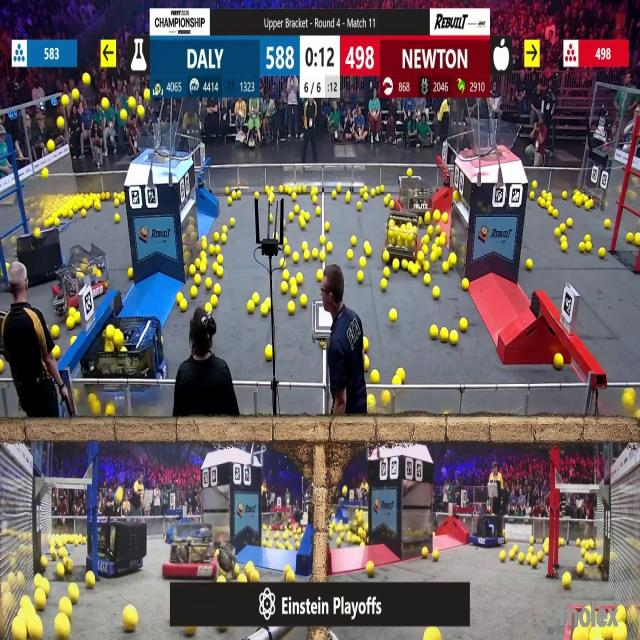ball_airborne: (115, 489, 123, 502), (46, 140, 54, 152), (129, 97, 137, 109), (100, 96, 107, 109), (138, 106, 145, 118), (72, 90, 79, 102), (82, 73, 89, 85), (144, 90, 150, 103), (59, 116, 66, 127), (42, 168, 48, 180), (62, 96, 69, 106), (344, 487, 350, 498), (120, 110, 126, 120), (34, 229, 40, 239)
ball_ground: (125, 608, 138, 633), (623, 386, 636, 410), (61, 598, 73, 616), (35, 592, 46, 610), (69, 586, 79, 604), (248, 568, 260, 582), (86, 572, 96, 588), (92, 403, 101, 418), (555, 354, 564, 368), (365, 562, 374, 576), (266, 346, 274, 361), (563, 573, 571, 588), (451, 332, 459, 346), (442, 328, 450, 342), (184, 626, 194, 637), (429, 325, 437, 338), (370, 371, 378, 384), (66, 561, 74, 574), (392, 376, 402, 386), (460, 318, 467, 332), (362, 338, 369, 352), (286, 570, 294, 582), (67, 318, 75, 330), (380, 279, 388, 291), (382, 392, 390, 404), (366, 394, 374, 406), (363, 357, 370, 370), (299, 294, 306, 307), (59, 564, 66, 577), (576, 562, 583, 575), (54, 347, 61, 360), (106, 407, 114, 418), (450, 253, 458, 264), (382, 251, 390, 262), (432, 286, 439, 298), (211, 294, 218, 306), (389, 310, 396, 322), (247, 302, 254, 314), (288, 303, 295, 315), (51, 325, 58, 337), (262, 303, 269, 315), (252, 292, 259, 304), (424, 212, 431, 224), (42, 582, 49, 594), (238, 573, 247, 582), (627, 234, 635, 244), (316, 272, 324, 282), (396, 366, 404, 376), (59, 548, 67, 558), (74, 312, 80, 325), (180, 301, 187, 312), (290, 285, 297, 296), (578, 242, 585, 253), (392, 261, 399, 272), (364, 246, 371, 257), (205, 278, 212, 289), (188, 266, 195, 277), (424, 274, 430, 286), (526, 260, 532, 272), (282, 282, 288, 294), (357, 272, 363, 284), (204, 304, 212, 313), (572, 631, 580, 640), (82, 201, 90, 210), (69, 304, 75, 316), (499, 552, 506, 562), (213, 284, 220, 294), (423, 264, 430, 274), (193, 275, 200, 285), (216, 268, 223, 278), (418, 251, 425, 261), (421, 549, 428, 559), (432, 211, 439, 221), (220, 235, 227, 245), (507, 551, 514, 561), (190, 286, 196, 297), (296, 274, 302, 285), (432, 551, 438, 562), (586, 242, 592, 253), (401, 261, 407, 272), (235, 565, 241, 576), (561, 243, 568, 252), (538, 199, 545, 208), (462, 280, 468, 290), (599, 248, 605, 258), (444, 264, 450, 274), (283, 271, 289, 281), (384, 269, 390, 279), (360, 256, 366, 266), (292, 252, 298, 262), (201, 265, 207, 275), (312, 249, 318, 259), (519, 554, 525, 564), (443, 213, 449, 223), (320, 251, 326, 261), (346, 192, 352, 202), (284, 246, 290, 256), (95, 202, 101, 212), (531, 558, 537, 568), (209, 245, 215, 255), (214, 233, 220, 243), (356, 202, 362, 212), (41, 558, 47, 568), (202, 240, 208, 250), (0, 359, 4, 373), (218, 575, 225, 583), (129, 269, 134, 280), (216, 255, 222, 264), (305, 251, 311, 260), (412, 269, 418, 278), (604, 219, 610, 228), (269, 214, 275, 223), (537, 553, 543, 562), (553, 209, 559, 218), (556, 229, 562, 238), (560, 223, 566, 232), (430, 252, 436, 261), (423, 236, 429, 245), (431, 245, 437, 254), (441, 237, 447, 246), (348, 250, 353, 260), (351, 237, 356, 247), (326, 243, 331, 253), (299, 219, 304, 229), (428, 224, 433, 234), (635, 236, 640, 246), (215, 245, 220, 255), (409, 263, 414, 273), (527, 554, 532, 564), (114, 214, 120, 222), (80, 209, 86, 217), (231, 218, 237, 226), (303, 242, 309, 250), (320, 237, 326, 245), (201, 251, 207, 259), (586, 202, 592, 210), (106, 191, 112, 199), (293, 206, 299, 214), (194, 258, 200, 266), (269, 198, 275, 206), (559, 538, 565, 546), (579, 550, 585, 558), (316, 207, 321, 216), (567, 218, 572, 227), (288, 212, 293, 221), (387, 201, 392, 210), (306, 212, 311, 221), (435, 224, 440, 233), (562, 191, 568, 198), (221, 225, 227, 232), (68, 211, 74, 218), (530, 190, 535, 198), (324, 222, 329, 230), (532, 181, 537, 189), (331, 190, 336, 198), (114, 200, 119, 208), (267, 296, 272, 304), (408, 170, 413, 178), (233, 190, 238, 198), (254, 191, 259, 199), (224, 186, 229, 194), (276, 234, 281, 242), (514, 543, 519, 551), (177, 292, 182, 300), (279, 185, 284, 193), (119, 192, 123, 202), (227, 198, 231, 207), (560, 236, 566, 242), (70, 338, 76, 344), (370, 187, 374, 196), (586, 235, 591, 242), (363, 193, 368, 200), (529, 545, 534, 552), (291, 192, 296, 199), (547, 208, 552, 215), (56, 218, 61, 225), (280, 258, 284, 266), (543, 544, 547, 552), (530, 536, 534, 544), (313, 197, 317, 205), (338, 538, 342, 546), (266, 185, 270, 193), (284, 238, 288, 245), (113, 191, 117, 198), (276, 532, 280, 539)
goal: (466, 123, 521, 159), (128, 130, 188, 160)
robot_blue: (92, 322, 168, 408), (53, 246, 109, 316), (90, 521, 148, 580), (472, 514, 506, 548)
robot_red: (163, 519, 215, 578), (384, 212, 420, 262), (396, 170, 432, 213), (270, 512, 288, 530)
